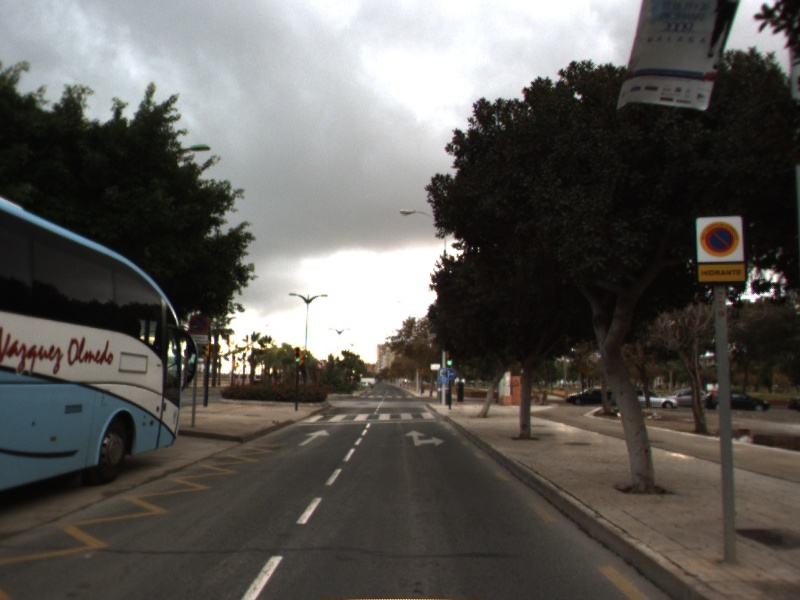STRAIGHT: (296, 427, 332, 447)
STRAIGHT_RIGHT: (402, 428, 447, 448)
